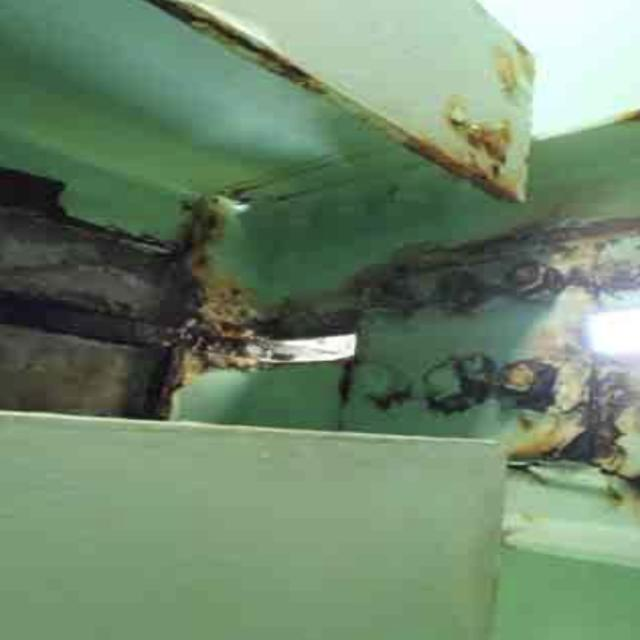corrosion: (151, 11, 620, 472)
